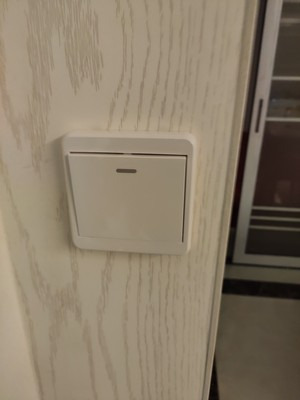switch: (65, 145, 191, 248)
